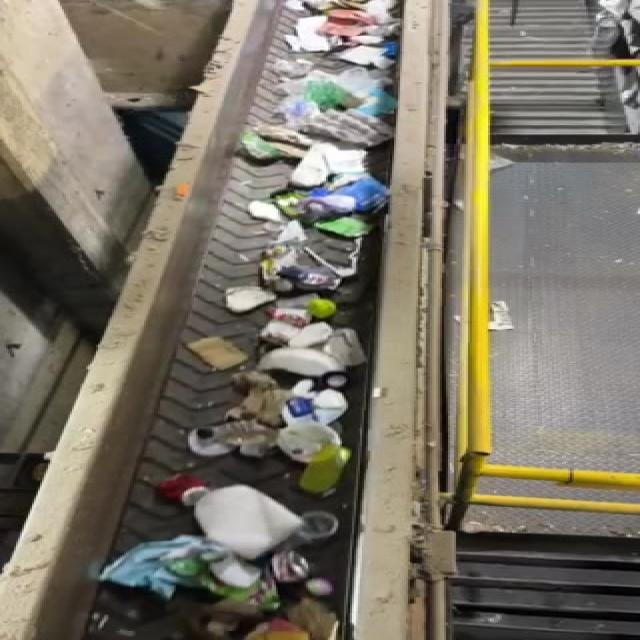hdpe: (154, 472, 316, 556)
paper: (104, 537, 293, 612), (190, 369, 278, 465)
pp: (272, 423, 351, 494), (283, 373, 348, 424), (308, 508, 362, 564)
